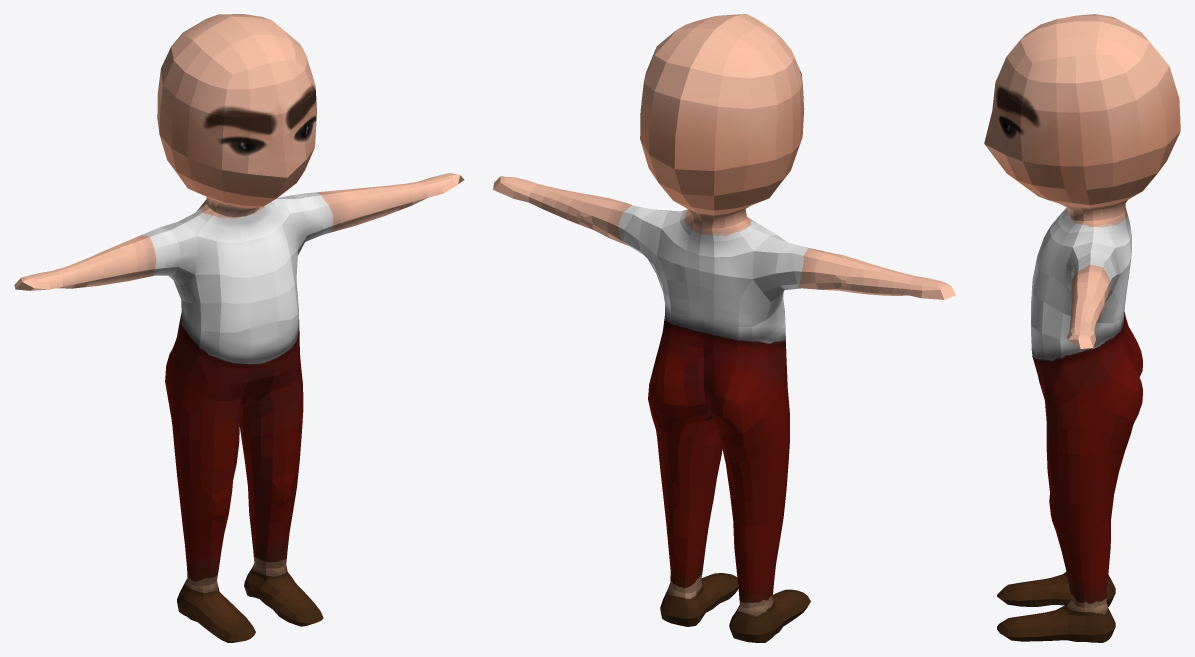
Rendered from WalkShotGun_Character_1.fbx.
The picture shows the model from 3 angles, left to right: view 1: azimuth 30°, elevation 25°; view 2: azimuth 150°, elevation 25°; view 3: azimuth 270°, elevation 25°; orthographic projection. The views are drawn at different scales.
Visible parts, largest first — view 1: Mono_base_con_uvs:polySurface7; view 2: Mono_base_con_uvs:polySurface7; view 3: Mono_base_con_uvs:polySurface7.
Boxes of the visible parts, x1,y1,x2,y2 form: Mono_base_con_uvs:polySurface7: [14, 14, 464, 642]; Mono_base_con_uvs:polySurface7: [493, 14, 955, 642]; Mono_base_con_uvs:polySurface7: [984, 14, 1180, 642].
Bounding box in the file's own units: 3.57 × 4.45 × 1.32.
Materials: 1 (1 with a texture image).
